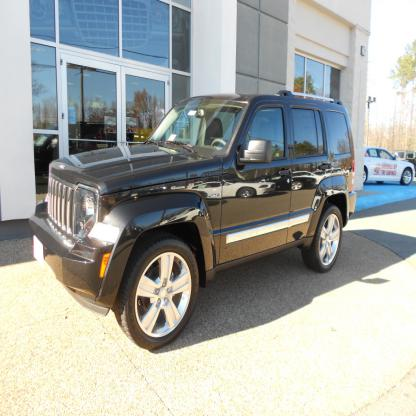Vehicle: (27, 87, 357, 354)
